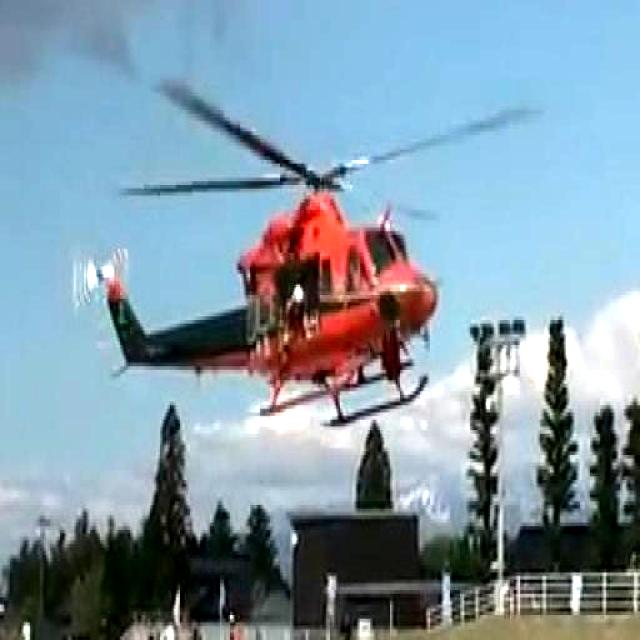drone: (71, 78, 525, 434)
